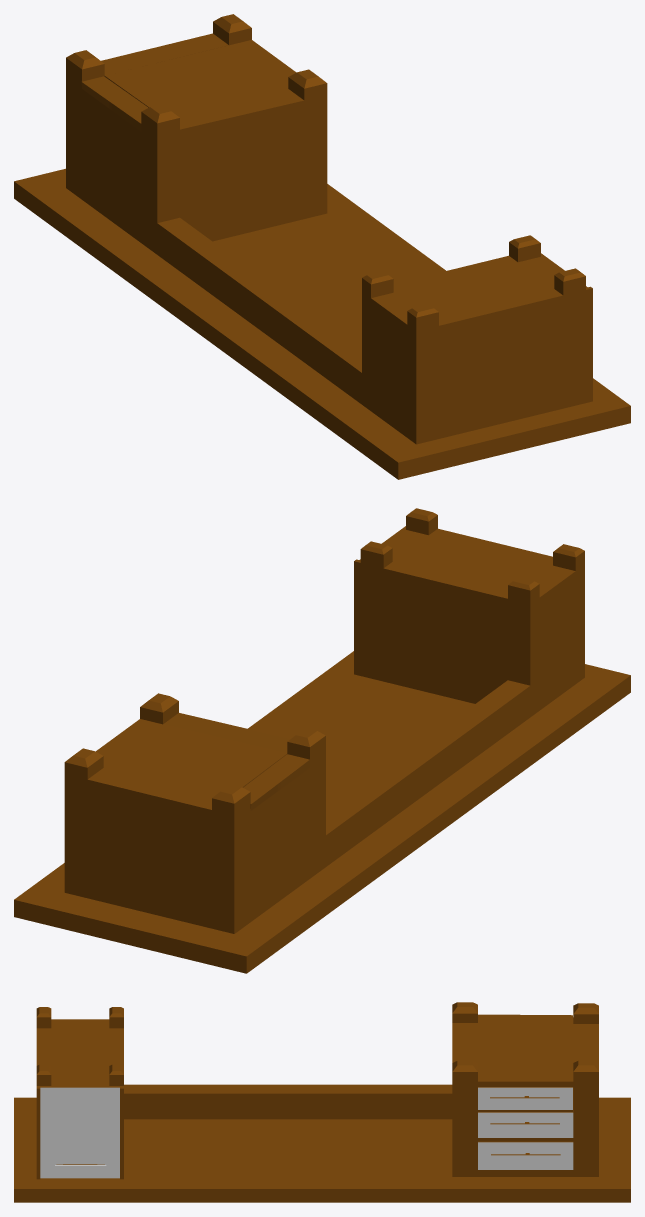
The model's file is Bureau.fbx.
The picture shows the model from 3 angles, top to bottom: view 1: azimuth 30°, elevation 25°; view 2: azimuth 150°, elevation 25°; view 3: azimuth 270°, elevation 25°; orthographic projection. The views are drawn at different scales.
Visible parts, largest first — view 1: Cube; view 2: Cube; view 3: Cube.
Boxes of the visible parts, x1,y1,x2,y2 form: Cube: [14, 14, 630, 479]; Cube: [14, 508, 630, 973]; Cube: [14, 1002, 630, 1202].
Size of the model in its own units: 280 by 178 by 800.
